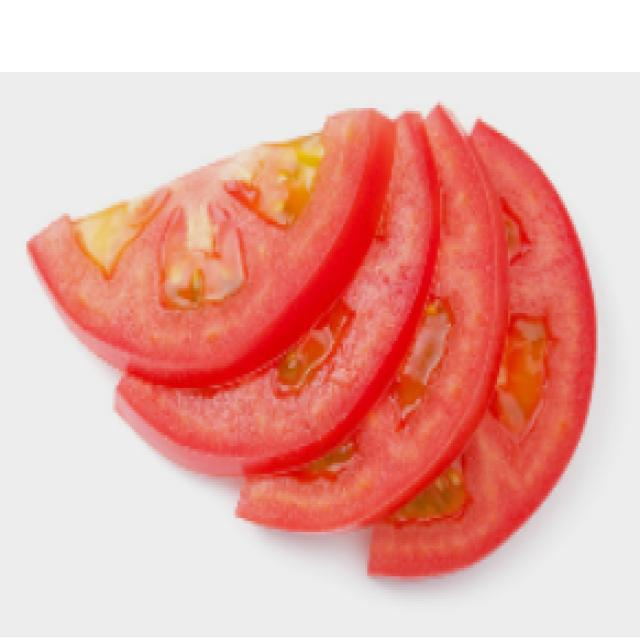Tomato: (54, 129, 376, 372)
